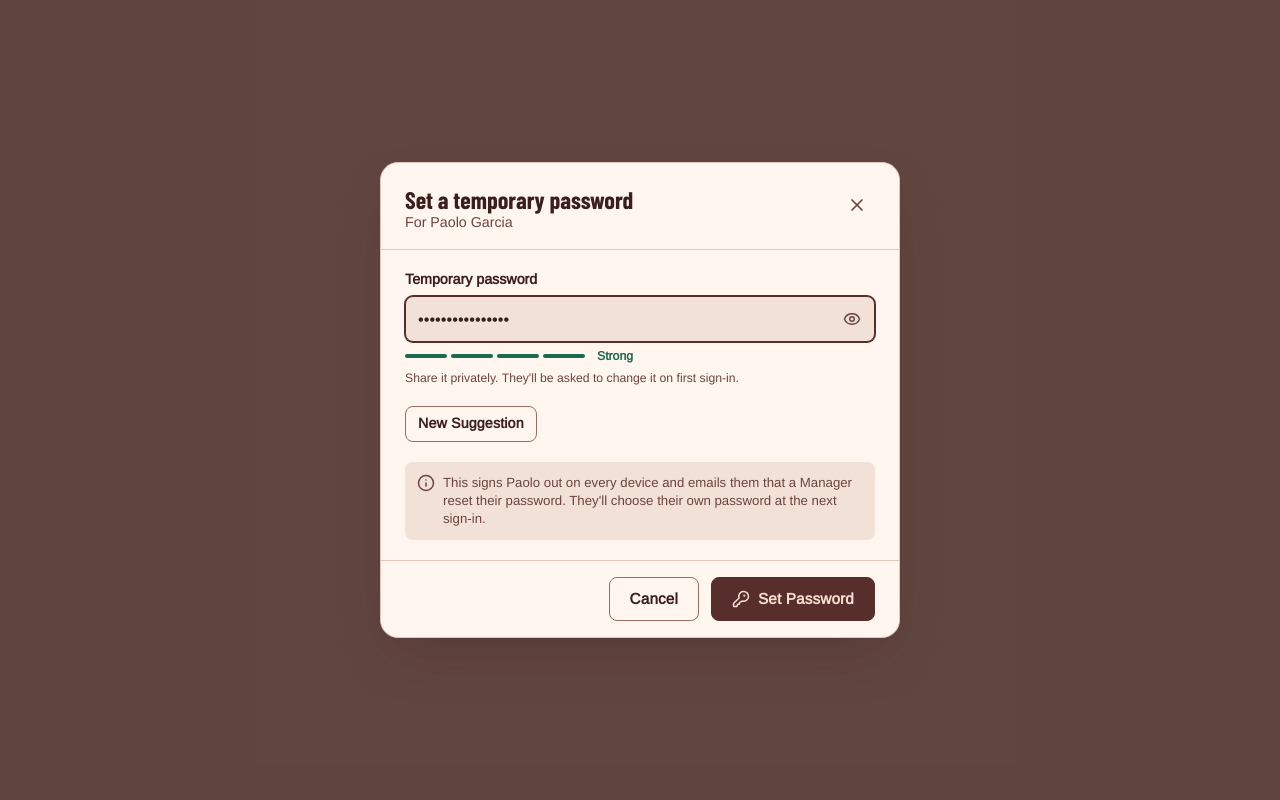
TemporaryPasswordDialog set step › words a 422 users.blocked refusal in plain English
Click the button "Set Password": (793, 599) [711,577,875,621]
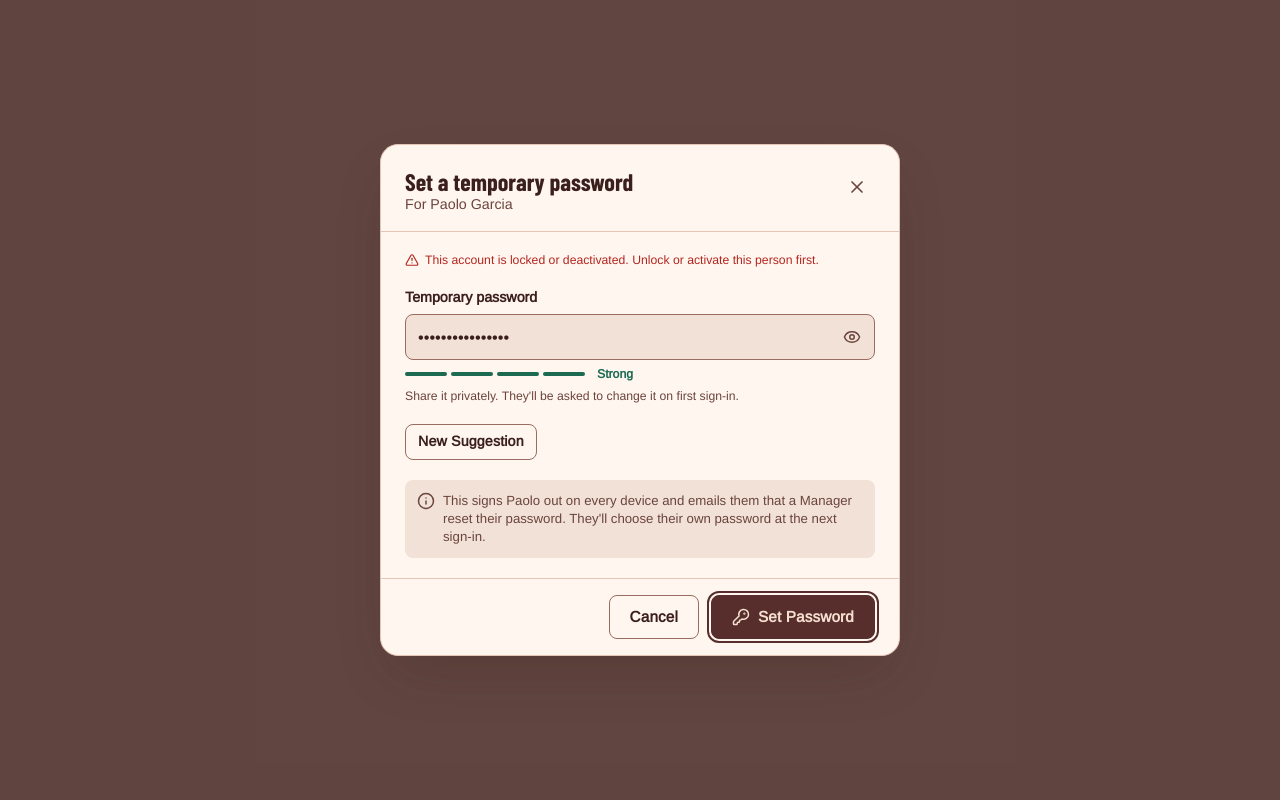
Expected: the message reads "This account is locked or deactivated. Unlock or activate this person first.", [425,253,819,267]
